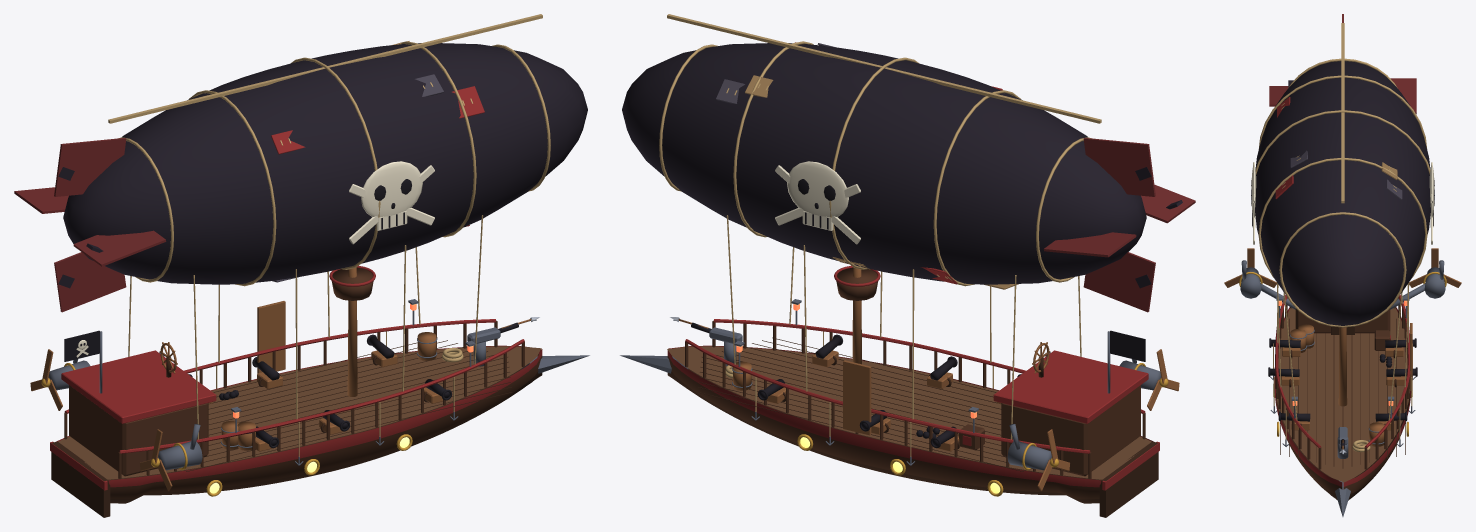
File: pirate_ship.glb
3 renders of one model, left to right at view 1: azimuth 30°, elevation 25°; view 2: azimuth 150°, elevation 25°; view 3: azimuth 270°, elevation 25°, orthographic. The views are drawn at different scales.
Visible parts, largest first — view 1: balloon, deck, cabin_roof, cabin, hull_upper_starboard, hull_band_starboard, tail_fin_0_1, tail_fin_0_-1, skull_P, balloon_spine, hull_transom, hull_lower (+11 smaller); view 2: balloon, deck, cabin_roof, cabin, hull_upper_port, hull_band_port, tail_fin_0_1, tail_fin_0_-1, skull_S, balloon_spine, hull_transom, hull_lower (+11 smaller); view 3: balloon, deck, balloon_net_4, balloon_net_3, cabin, balloon_spine, balloon_net_1, balloon_net_2, mast, hull_band_starboard, tail_fin_1_1, engine_P (+10 smaller).
Boxes of the visible parts, <box> form: balloon: <box>63,43,587,284</box>; deck: <box>58,346,542,479</box>; cabin_roof: <box>61,350,216,423</box>; cabin: <box>69,385,208,476</box>; hull_upper_starboard: <box>110,355,542,499</box>; hull_band_starboard: <box>108,349,542,487</box>; tail_fin_0_1: <box>54,138,126,196</box>; tail_fin_0_-1: <box>54,252,126,312</box>; skull_P: <box>361,161,422,217</box>; balloon_spine: <box>108,14,542,123</box>; hull_transom: <box>51,441,110,517</box>; hull_lower: <box>110,368,542,503</box>; balloon: <box>622,43,1146,284</box>; deck: <box>667,346,1151,479</box>; cabin_roof: <box>993,350,1148,423</box>; cabin: <box>1001,385,1140,476</box>; hull_upper_port: <box>667,355,1099,499</box>; hull_band_port: <box>667,350,1101,487</box>; tail_fin_0_1: <box>1083,138,1155,196</box>; tail_fin_0_-1: <box>1083,252,1155,312</box>; skull_S: <box>787,161,848,217</box>; balloon_spine: <box>667,14,1101,123</box>; hull_transom: <box>1099,441,1158,517</box>; hull_lower: <box>667,368,1099,503</box>; balloon: <box>1255,61,1430,325</box>; deck: <box>1276,308,1409,482</box>; balloon_net_4: <box>1279,212,1406,327</box>; balloon_net_3: <box>1258,158,1427,277</box>; cabin: <box>1295,308,1390,333</box>; balloon_spine: <box>1341,23,1344,203</box>; balloon_net_1: <box>1258,75,1427,149</box>; balloon_net_2: <box>1255,110,1430,174</box>; mast: <box>1338,327,1347,406</box>; hull_band_starboard: <box>1274,307,1342,486</box>; tail_fin_1_1: <box>1390,78,1416,114</box>; engine_P: <box>1240,267,1261,298</box>.
Bounding box in the file's own units: 19.81 × 14.13 × 9.03.
